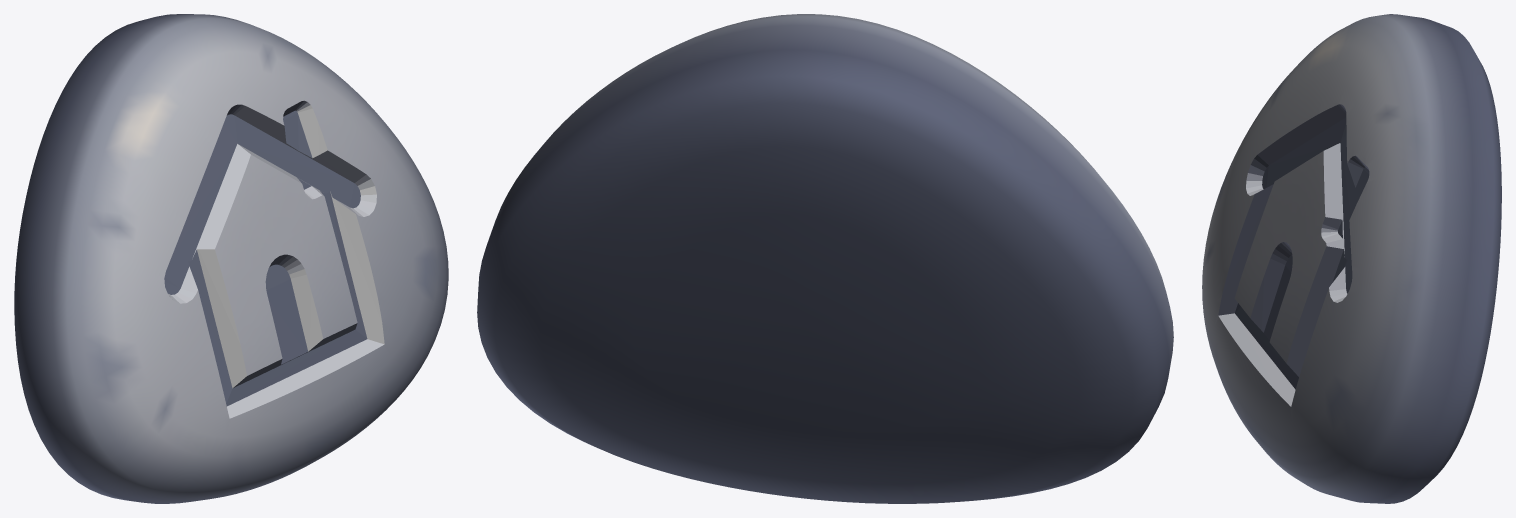
The model's file is Home_Stone.glb.
The picture shows the model from 3 angles, left to right: view 1: azimuth 30°, elevation 25°; view 2: azimuth 150°, elevation 25°; view 3: azimuth 270°, elevation 25°; orthographic projection. The views are drawn at different scales.
Parts seen in each view (by area): view 1: Home_Stone; view 2: Home_Stone; view 3: Home_Stone.
Part boxes in pixels (bbox=[...]): Home_Stone: bbox=[14, 14, 448, 503]; Home_Stone: bbox=[477, 14, 1173, 503]; Home_Stone: bbox=[1202, 14, 1501, 503].
Size of the model in its own units: 2 by 1.72 by 1.13.
